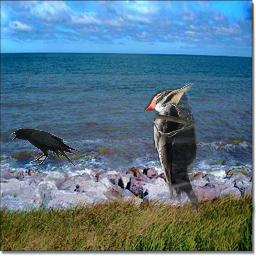Crow: (10, 128, 79, 166)
Woodpecker: (144, 83, 198, 220)
